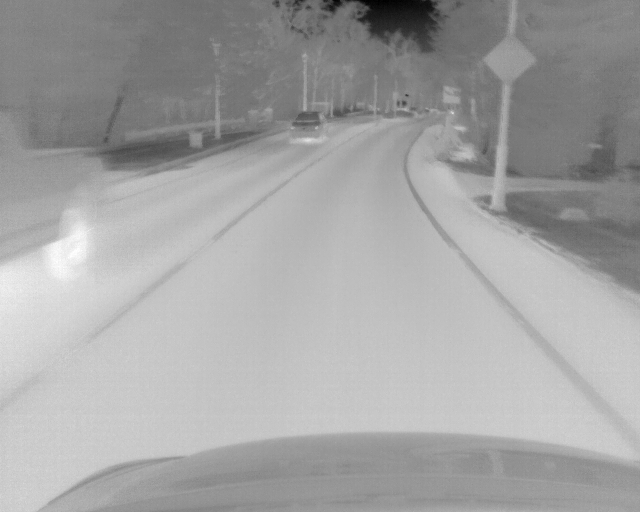car: (1, 113, 104, 279), (287, 111, 329, 146)
